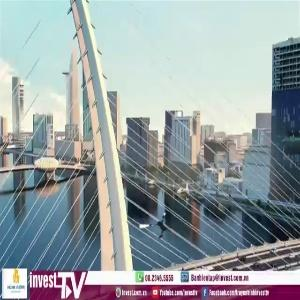drone: (140, 212, 177, 249)
